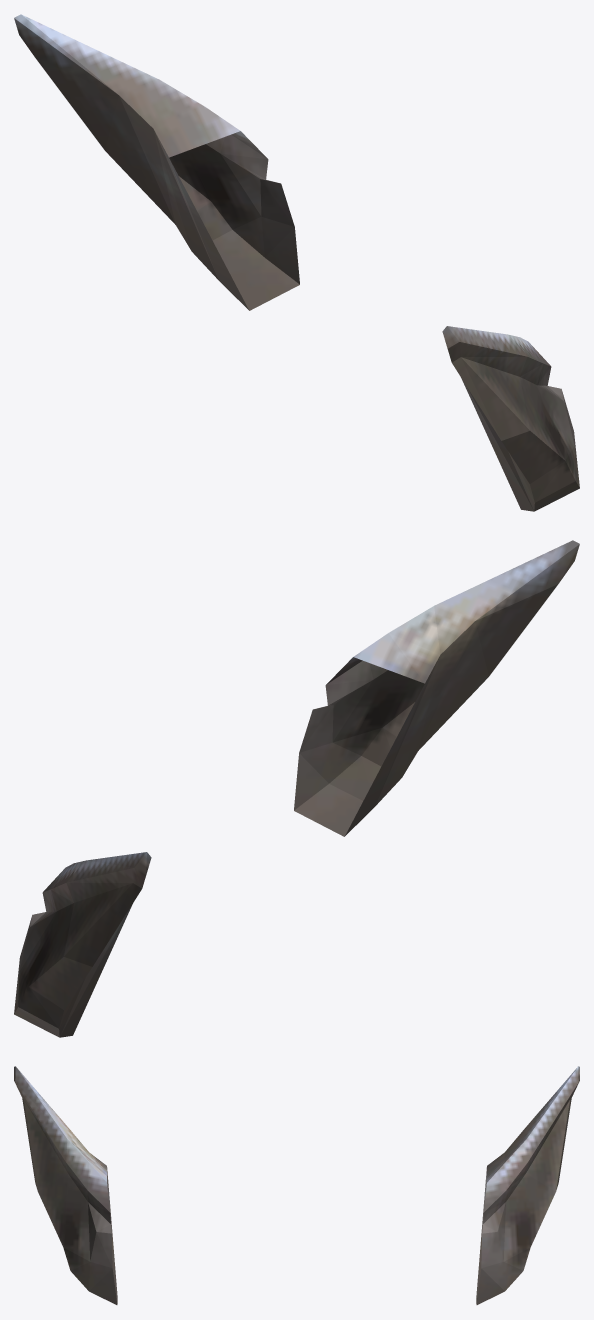
File: ELF EARS.fbx
3 renders of one model, top to bottom at view 1: azimuth 30°, elevation 25°; view 2: azimuth 150°, elevation 25°; view 3: azimuth 270°, elevation 25°, orthographic. The views are drawn at different scales.
Visible parts, largest first — view 1: ELF_EARS; view 2: ELF_EARS; view 3: ELF_EARS.
Part boxes in pixels (x1,y1,x2,y2): ELF_EARS: (14,14,579,511); ELF_EARS: (14,540,579,1037); ELF_EARS: (14,1066,579,1304).
Bounding box in the file's own units: 9.79 × 12.47 × 34.96.
